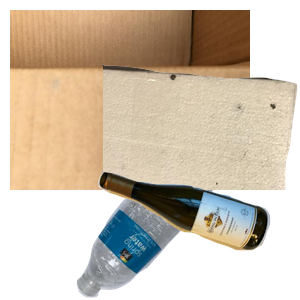cardboard: (10, 10, 250, 190)
glass: (95, 168, 300, 300)
plastic: (74, 156, 280, 300)
trash: (103, 62, 300, 242)
